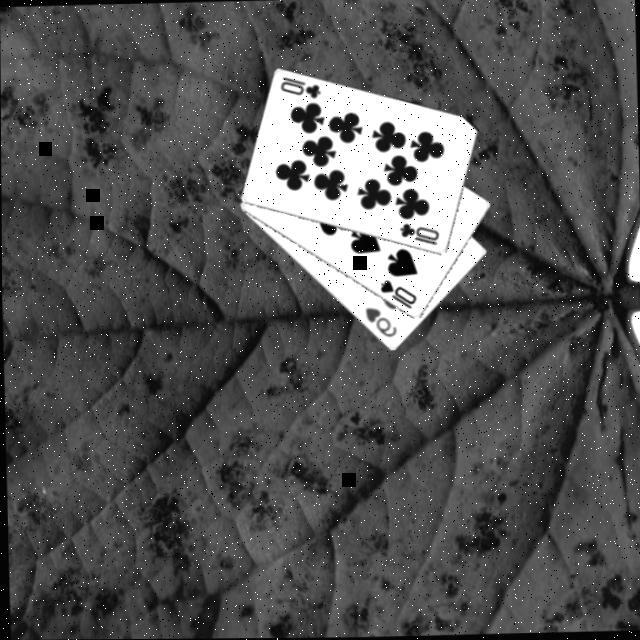10C: (276, 72, 322, 101), (395, 218, 440, 247)
10S: (374, 274, 418, 311)
6H: (360, 302, 398, 340)
